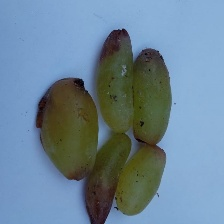grapes: (39, 17, 186, 211)
